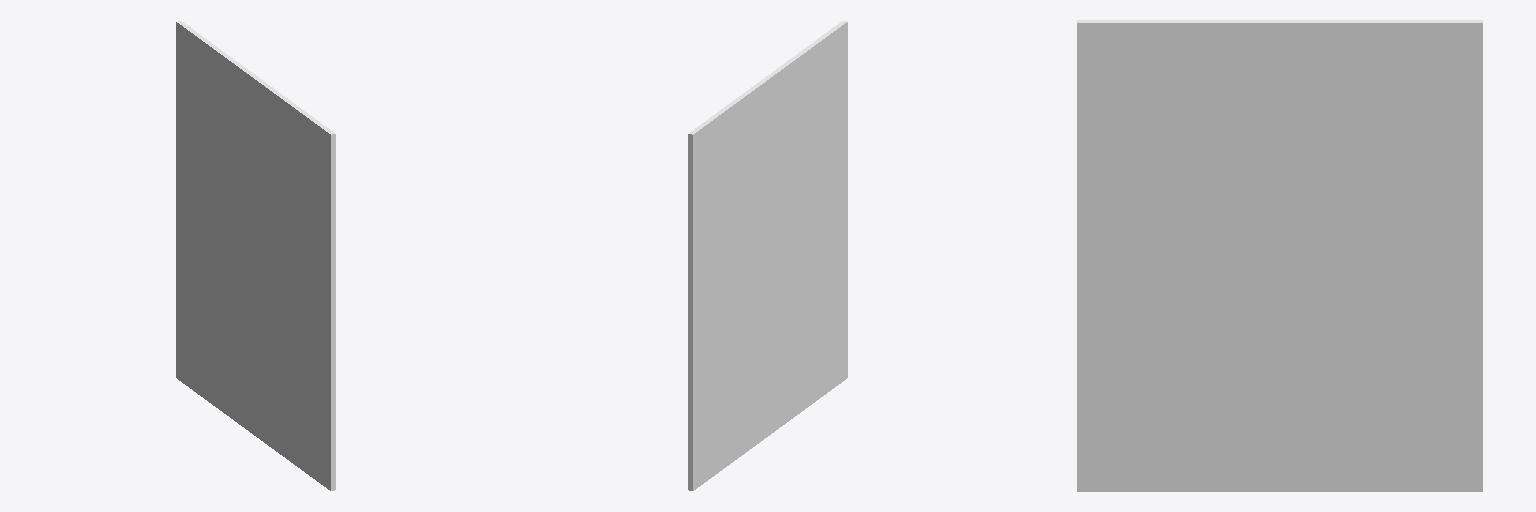
The robot description file, URDF, robot "drcbox-drill-wall-0-robot":
<?xml version="1.0"?>
<robot name="drcbox-drill-wall-0-robot"
       xmlns:xi="http://www.w3.org/2001/XInclude"
       xmlns:gazebo="http://playerstage.sourceforge.net/gazebo/xmlschema/#gz"
       xmlns:model="http://playerstage.sourceforge.net/gazebo/xmlschema/#model"
       xmlns:sensor="http://playerstage.sourceforge.net/gazebo/xmlschema/#sensor"
       xmlns:body="http://playerstage.sourceforge.net/gazebo/xmlschema/#body"
       xmlns:geom="http://playerstage.sourceforge.net/gazebo/xmlschema/#geom"
       xmlns:joint="http://playerstage.sourceforge.net/gazebo/xmlschema/#joint"
       xmlns:interface="http://playerstage.sourceforge.net/gazebo/xmlschema/#interface"
       xmlns:rendering="http://playerstage.sourceforge.net/gazebo/xmlschema/#rendering"
       xmlns:renderable="http://playerstage.sourceforge.net/gazebo/xmlschema/#renderable"
       xmlns:controller="http://playerstage.sourceforge.net/gazebo/xmlschema/#controller"
       xmlns:physics="http://playerstage.sourceforge.net/gazebo/xmlschema/#physics">
  <gazebo>
    <static>false</static>
  </gazebo>
  <link name="nil_link">
    <visual>
      <origin xyz="0 0 0" rpy="0 -0 0"/>
      <geometry>
        <mesh filename="model://drcbox-drill-wall-0/meshes/nil_link_mesh.dae" scale="1 1 1" />
      </geometry>
    </visual>
    <collision>
      <origin xyz="0 0 0" rpy="0 -0 0"/>
      <geometry>
        <mesh filename="model://drcbox-drill-wall-0/meshes/nil_link_mesh.dae" scale="1 1 1" />
      </geometry>
    </collision>
    <inertial>
      <mass value="1" />
      <origin xyz="0 0 0" rpy="0 -0 0"/>
      <inertia ixx="1e-03" ixy="0" ixz="0" iyy="1e-03" iyz="0" izz="1e-03"/>
    </inertial>
  </link>
  <gazebo reference="nil_link">
    <mu1>0.9</mu1>
    <mu2>0.9</mu2>
  </gazebo>
</robot>

--- Facts derived from the render (not from the file) ---
The picture shows the robot from 3 angles, left to right: view 1: azimuth 30°, elevation 25°; view 2: azimuth 150°, elevation 25°; view 3: azimuth 270°, elevation 25°; orthographic projection.
Model drcbox-drill-wall-0-robot with 1 links and 0 joints (none), rooted at nil_link, posed every joint at zero.
Links seen in each view (by area): view 1: nil_link; view 2: nil_link; view 3: nil_link.
Boxes of the visible links, box(x1,y1,x2,y2) form: nil_link: box(176, 21, 335, 490); nil_link: box(688, 21, 847, 490); nil_link: box(1077, 20, 1482, 491).
Bounding box of the posed robot: 0.01 × 0.57 × 0.725 m (x, y, z).
Meshes: 1 distinct files referenced, 1 mesh visuals loaded (1 Collada DAE).